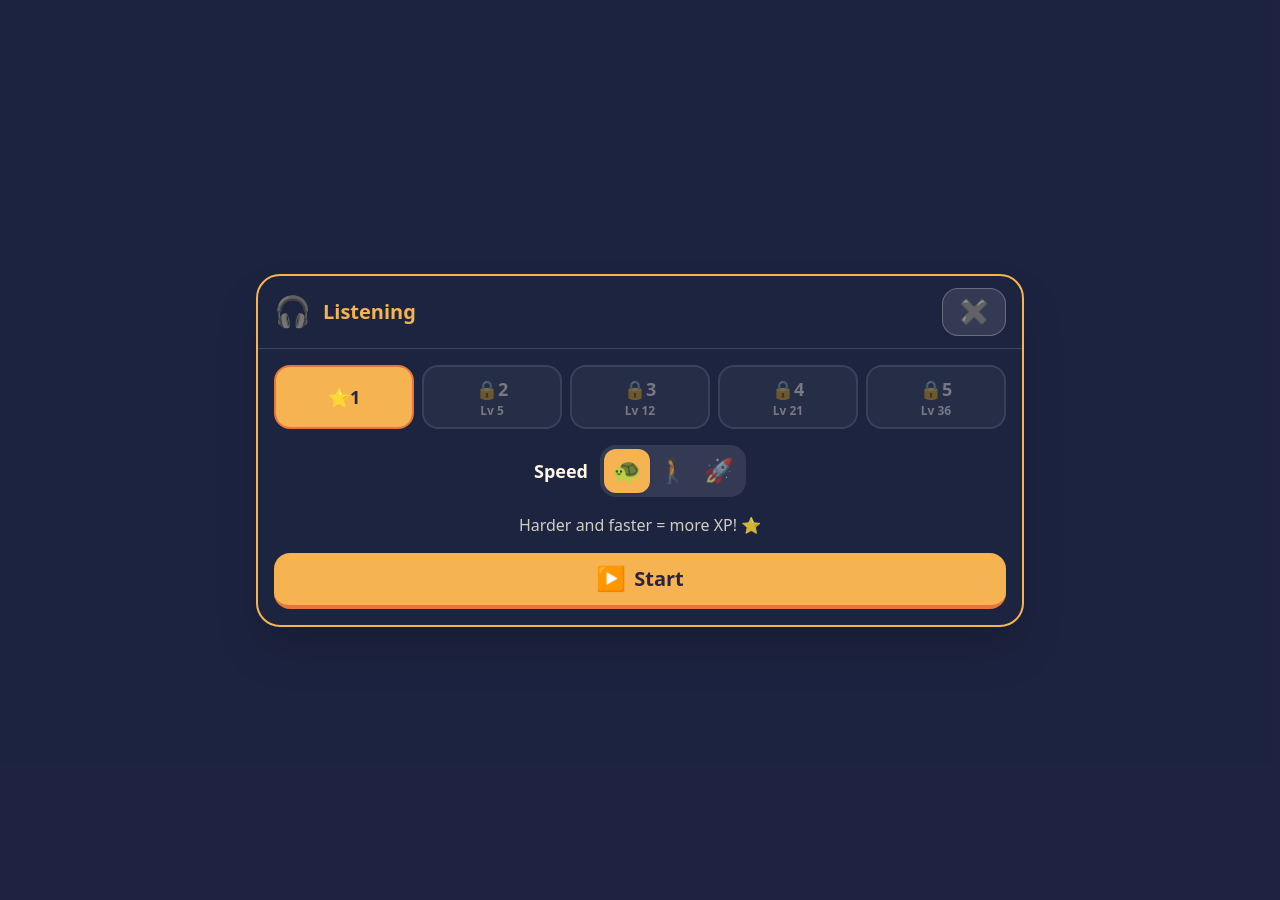
Scenario: skill practice › listening tier 1 runs 5 questions and pays XP; higher tiers are locked by level
Check: the radio button with aria-label "Level 2 (opens at Lv 5)" is disabled, box 422,364 -> 562,428
Click the button "▶️ Start" at [640, 580], box 274,552 -> 1006,608
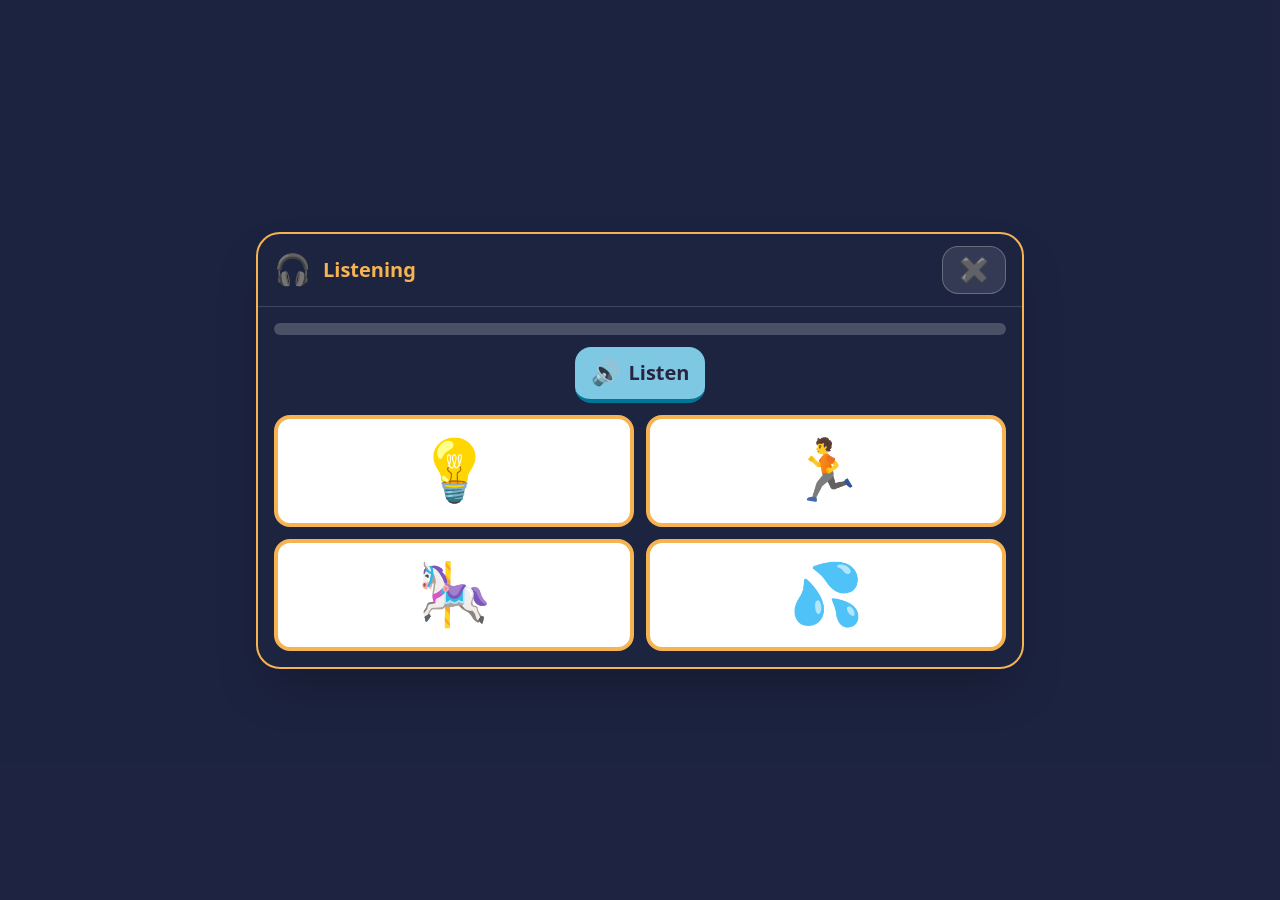
Click the button "💡" at [454, 470], box 274,414 -> 634,526
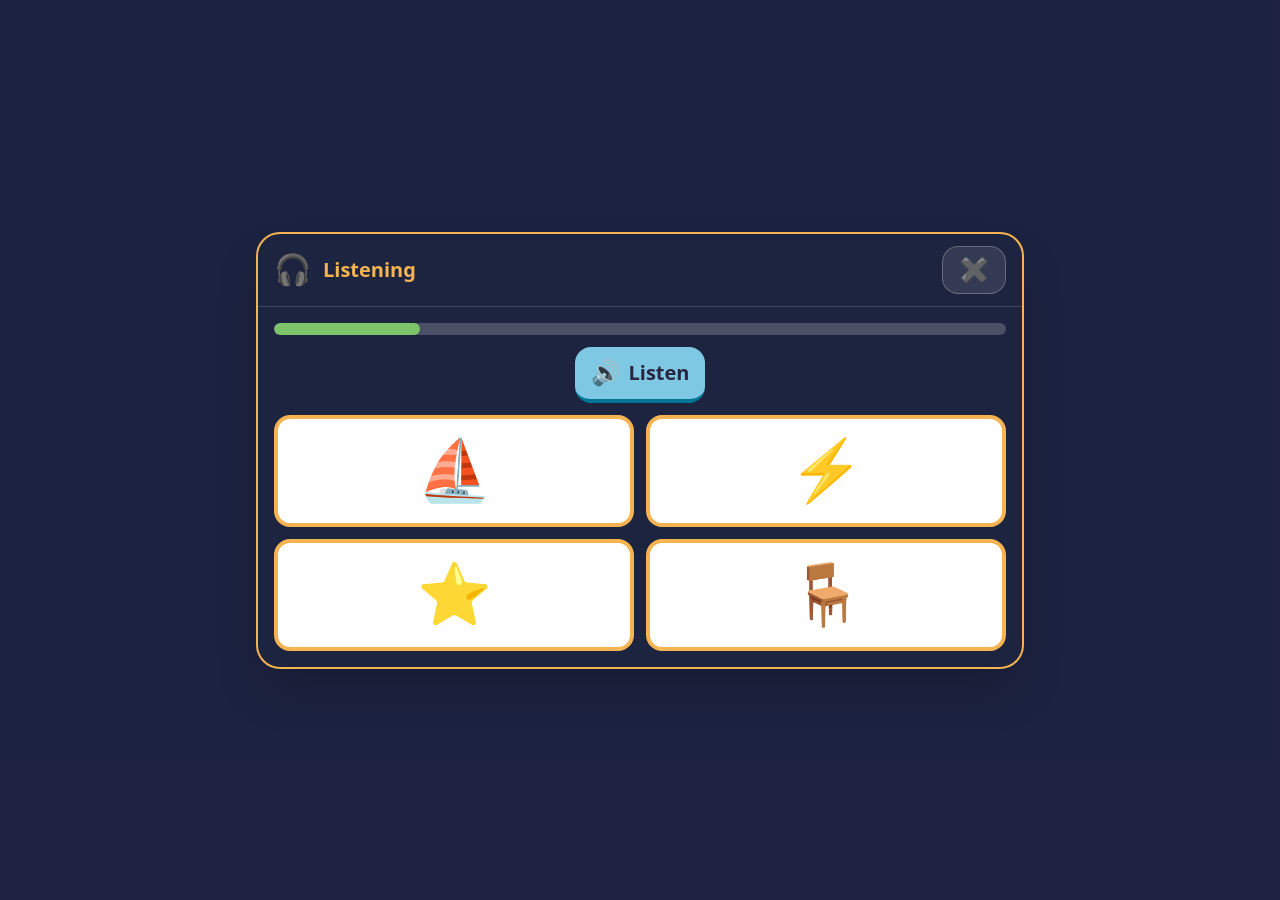
Check: the progress indicator named "Progress" has attribute aria-valuenow="20", box 274,322 -> 1006,334
Click the button "⛵" at [454, 470], box 274,414 -> 634,526
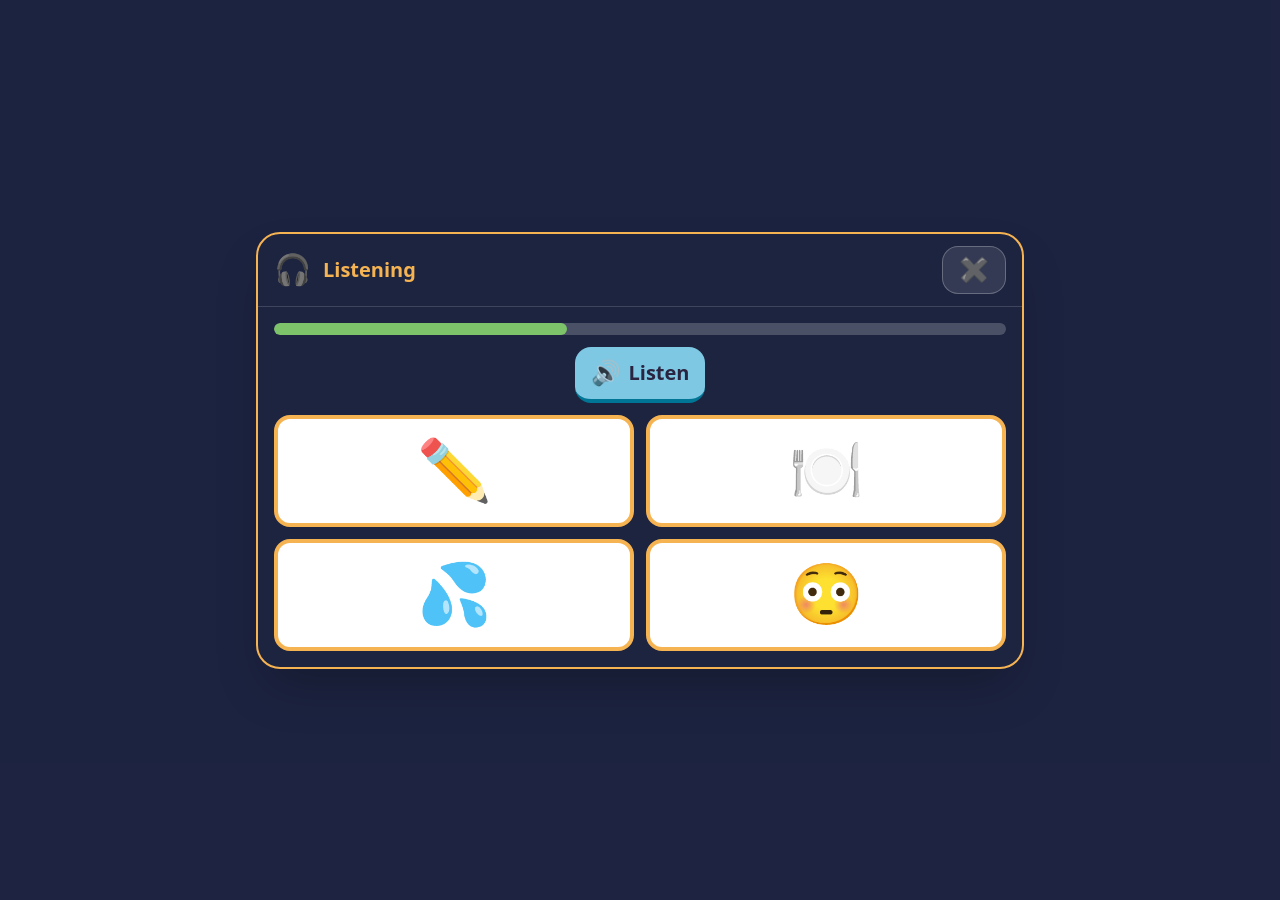
Check: the progress indicator named "Progress" has attribute aria-valuenow="40", box 274,322 -> 1006,334
Click the button "✏️" at [454, 470], box 274,414 -> 634,526
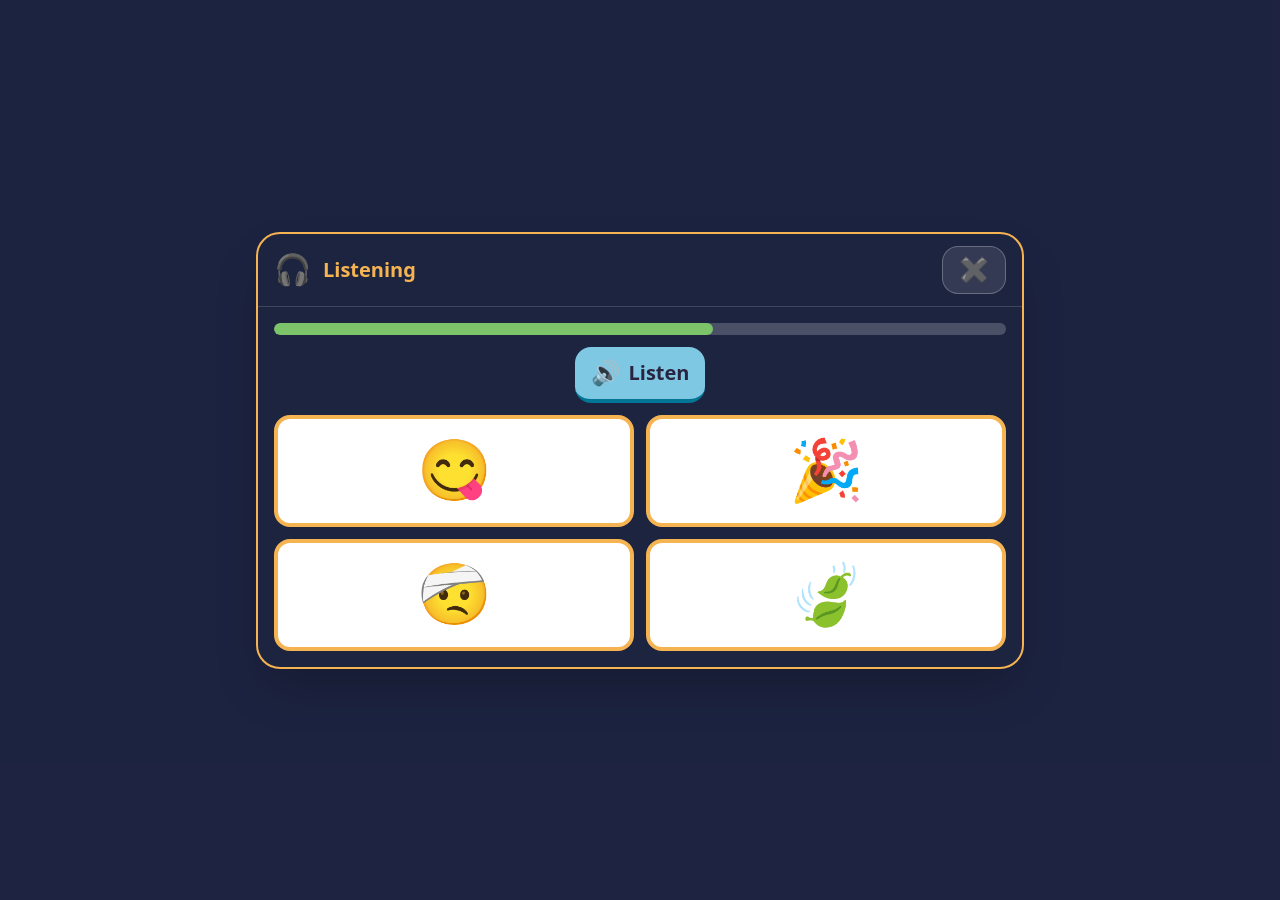
Check: the progress indicator named "Progress" has attribute aria-valuenow="60", box 274,322 -> 1006,334
Click the button "😋" at [454, 470], box 274,414 -> 634,526
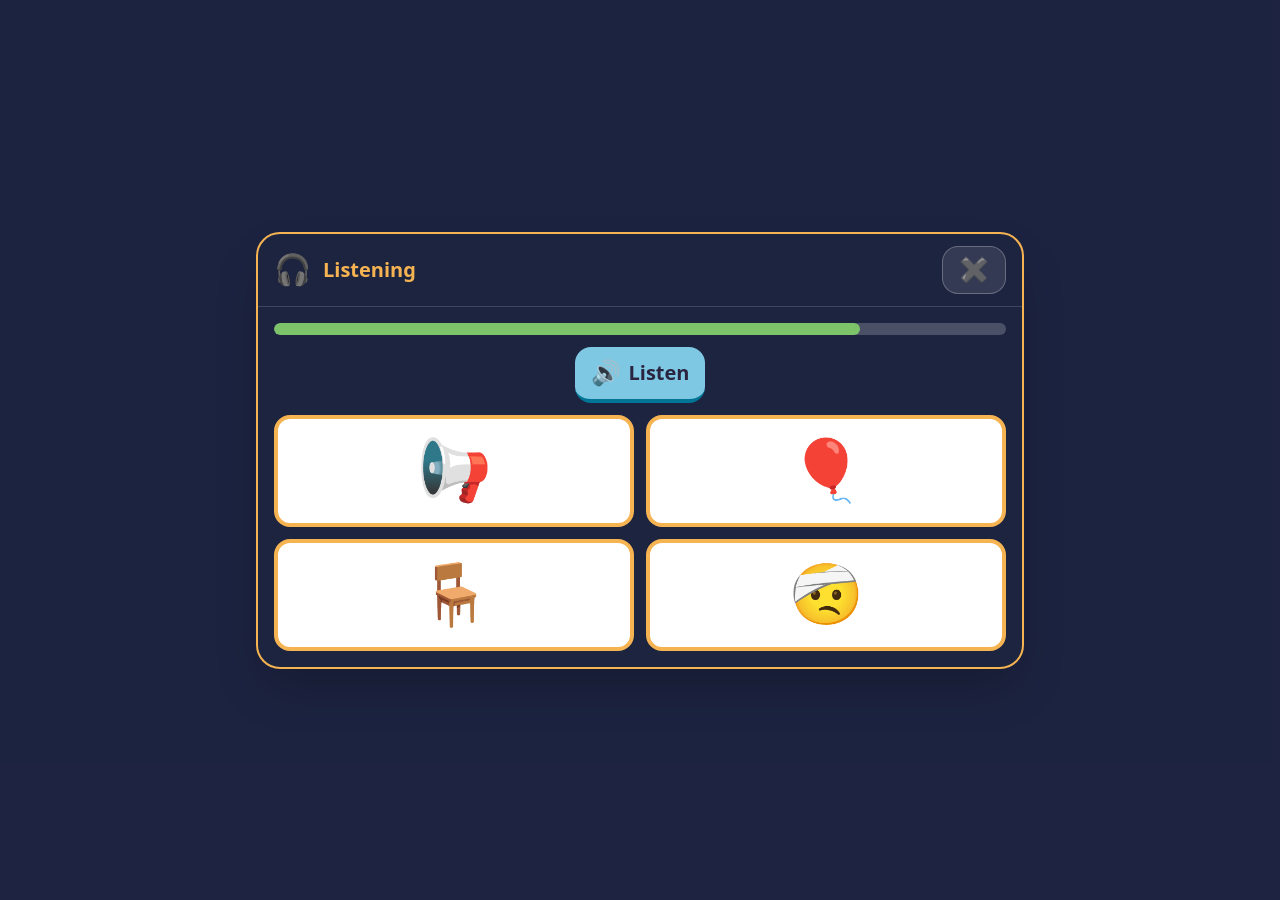
Check: the progress indicator named "Progress" has attribute aria-valuenow="80", box 274,322 -> 1006,334
Click the button "📢" at [454, 470], box 274,414 -> 634,526
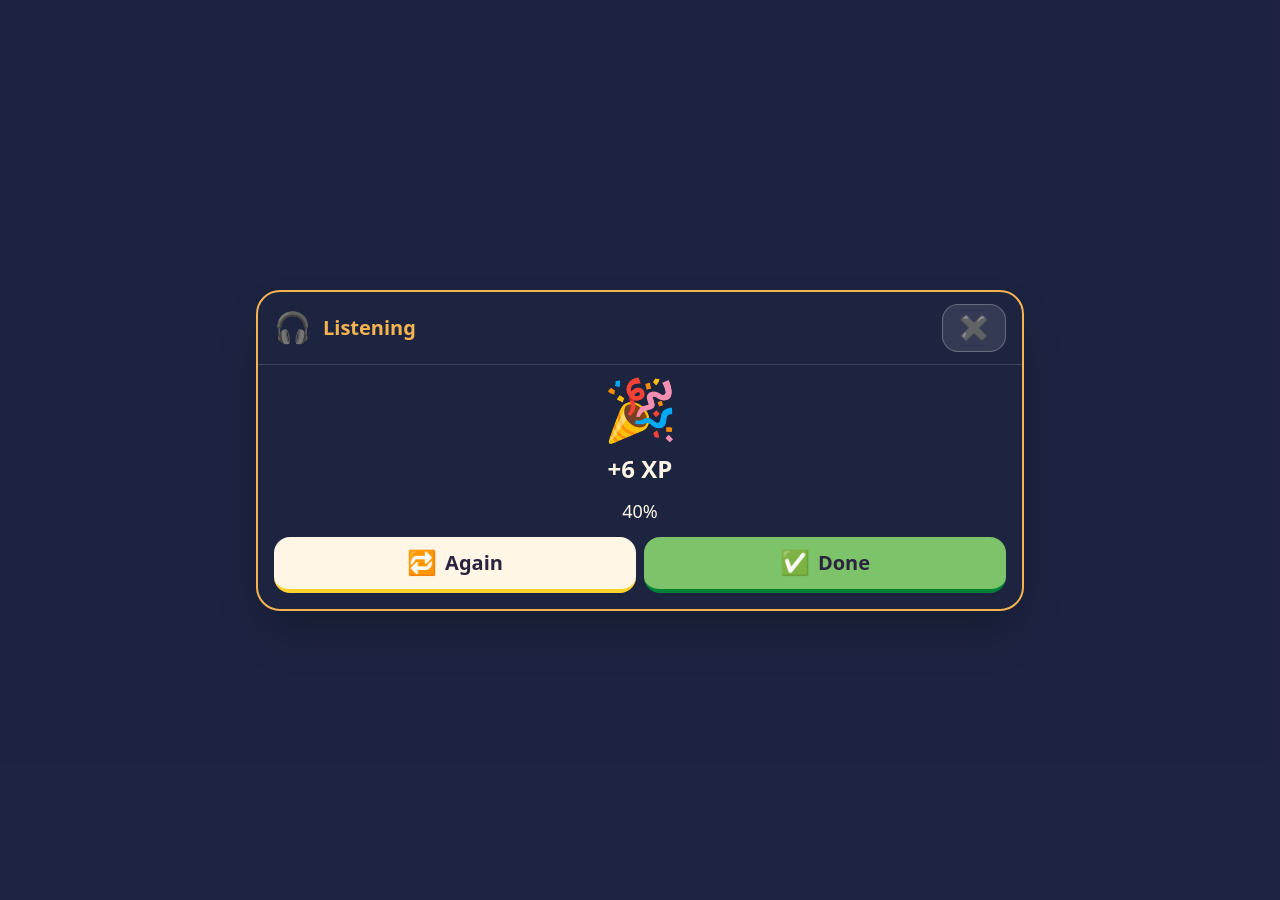
Check: the text "+6 XP" is shown, box 608,452 -> 672,484
